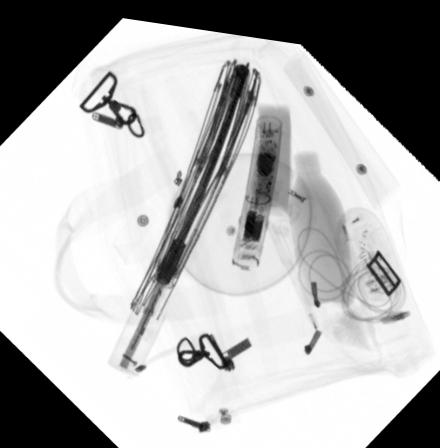Baton: (229, 103, 283, 265)
